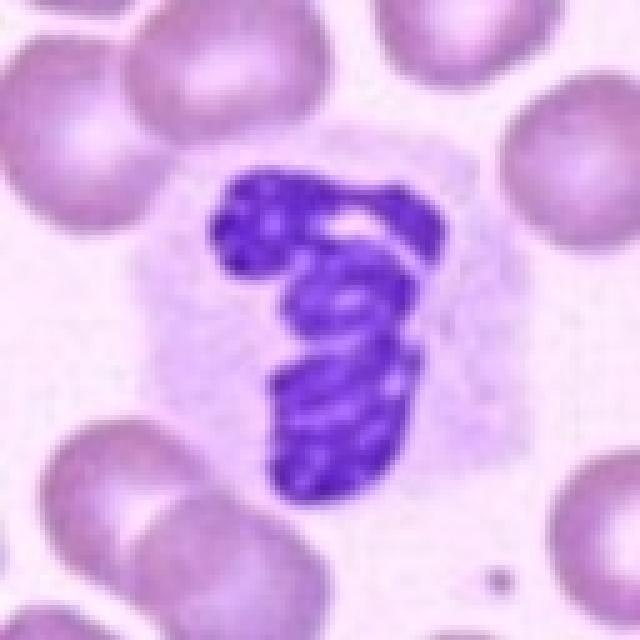neutro: (124, 118, 587, 526)
